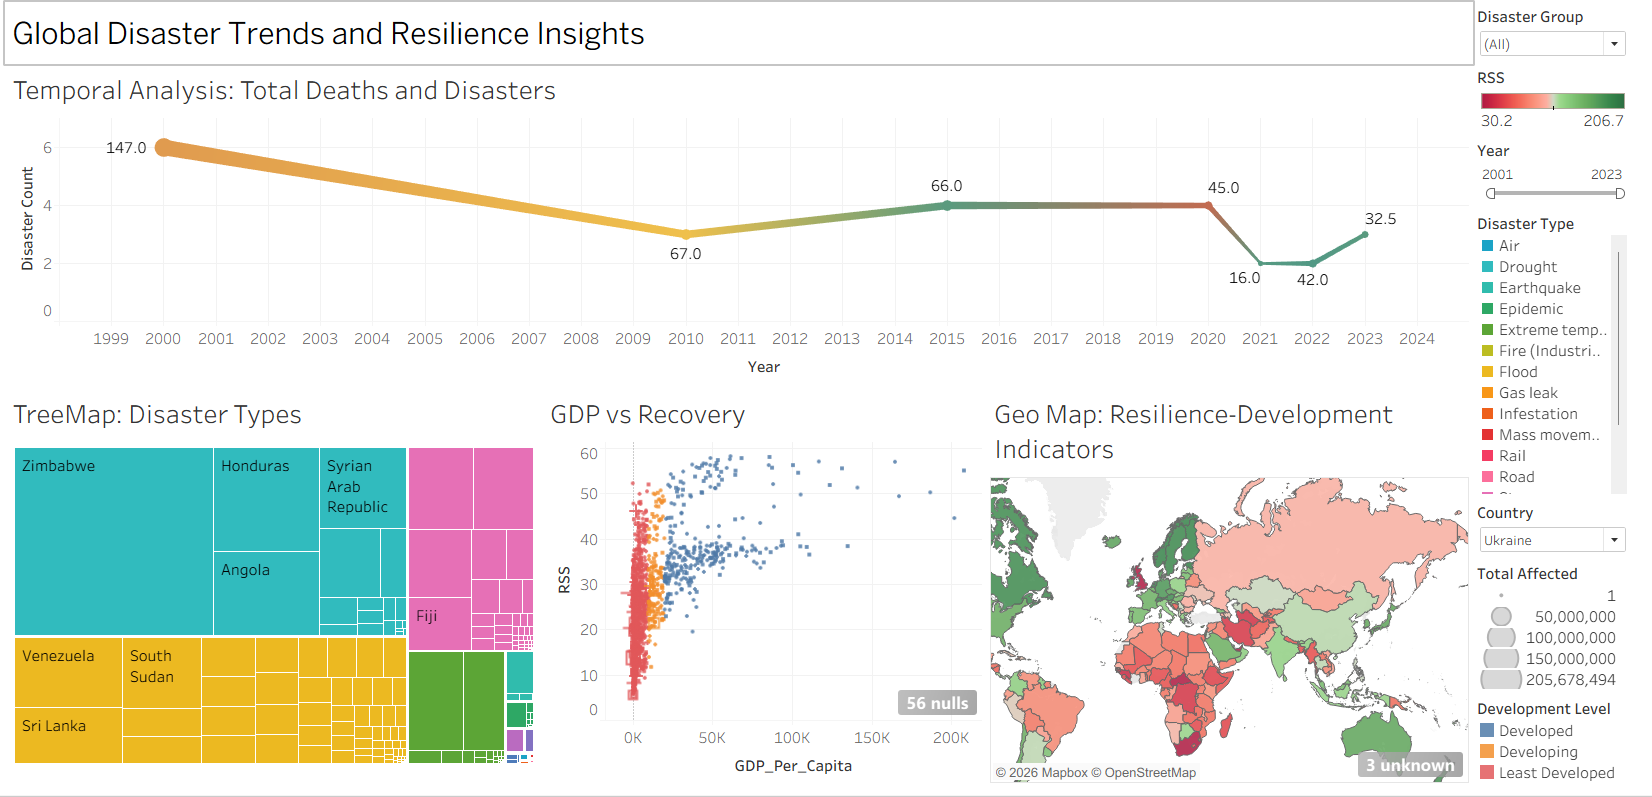

This screenshot's page, from the dashboard's own definition file:
{"tool":"tableau","page":{"name":"Final Dashboard","canvas":[1000,1000],"units":"permille","ordinal":0},"visuals":[{"type":"title","box":[4.7,10.2,868.1,77.7]},{"type":"filter","title":"Geo Map","param":"[federated.03oeb2512zfcg21b9s2gm0gr8w3s].[none:Disaster Group:nk]","box":[872.9,10.2,94.6,77.7]},{"type":"worksheet","title":"Temporal Analysis","mark":"Automatic","rows":["Disaster_Count"],"cols":["Year"],"box":[4.7,87.9,868.1,412.7]},{"type":"legend","title":"Geo Map","param":"[federated.03oeb2512zfcg21b9s2gm0gr8w3s].[sum:Calculation_1900237580585070616:qk","box":[872.9,87.9,94.6,93]},{"type":"filter","title":"TreeMap","param":"[federated.03oeb2512zfcg21b9s2gm0gr8w3s].[none:Year:qk]","box":[872.9,180.9,94.6,93]},{"type":"legend","title":"TreeMap","param":"[federated.03oeb2512zfcg21b9s2gm0gr8w3s].[none:Disaster Type:nk]","box":[872.9,273.9,94.6,347.8]},{"type":"worksheet","title":"TreeMap","mark":"Automatic","box":[4.7,500.6,317.6,489.2]},{"type":"worksheet","title":"ScatterPlot","mark":"Automatic","rows":["Calculation_1900237580585070616"],"cols":["GDP per capita (current US$)"],"box":[322.3,500.6,262.6,489.2]},{"type":"worksheet","title":"Geo Map","mark":"Automatic","box":[584.9,500.6,288,489.2]},{"type":"filter","title":"Temporal Analysis","param":"[federated.03oeb2512zfcg21b9s2gm0gr8w3s].[none:Country:nk]","box":[872.9,621.7,94.6,77.7]},{"type":"legend","title":"ScatterPlot","param":"[federated.03oeb2512zfcg21b9s2gm0gr8w3s].[sum:Total Affected:qk]","box":[872.9,699.4,94.6,172]},{"type":"legend","title":"ScatterPlot","param":"[federated.03oeb2512zfcg21b9s2gm0gr8w3s].[none:Calculation_1900237580583899156:n","box":[872.9,871.3,94.6,118.5]}]}

Visuals, with their boxes on the dashboard's canvas, which has no fixed pixel size, in thousandths of its width and height (x1, y1, x2, y2). These are canvas units, not pixel positions in the 1652x797 screenshot, which may show the page scaled, cropped or inside an application window:
title: {"left": 5, "top": 10, "right": 873, "bottom": 88}
"Geo Map" filter: {"left": 873, "top": 10, "right": 968, "bottom": 88}
"Temporal Analysis" worksheet: {"left": 5, "top": 88, "right": 873, "bottom": 501}
"Geo Map" legend: {"left": 873, "top": 88, "right": 968, "bottom": 181}
"TreeMap" filter: {"left": 873, "top": 181, "right": 968, "bottom": 274}
"TreeMap" legend: {"left": 873, "top": 274, "right": 968, "bottom": 622}
"TreeMap" worksheet: {"left": 5, "top": 501, "right": 322, "bottom": 990}
"ScatterPlot" worksheet: {"left": 322, "top": 501, "right": 585, "bottom": 990}
"Geo Map" worksheet: {"left": 585, "top": 501, "right": 873, "bottom": 990}
"Temporal Analysis" filter: {"left": 873, "top": 622, "right": 968, "bottom": 699}
"ScatterPlot" legend: {"left": 873, "top": 699, "right": 968, "bottom": 871}
"ScatterPlot" legend: {"left": 873, "top": 871, "right": 968, "bottom": 990}
